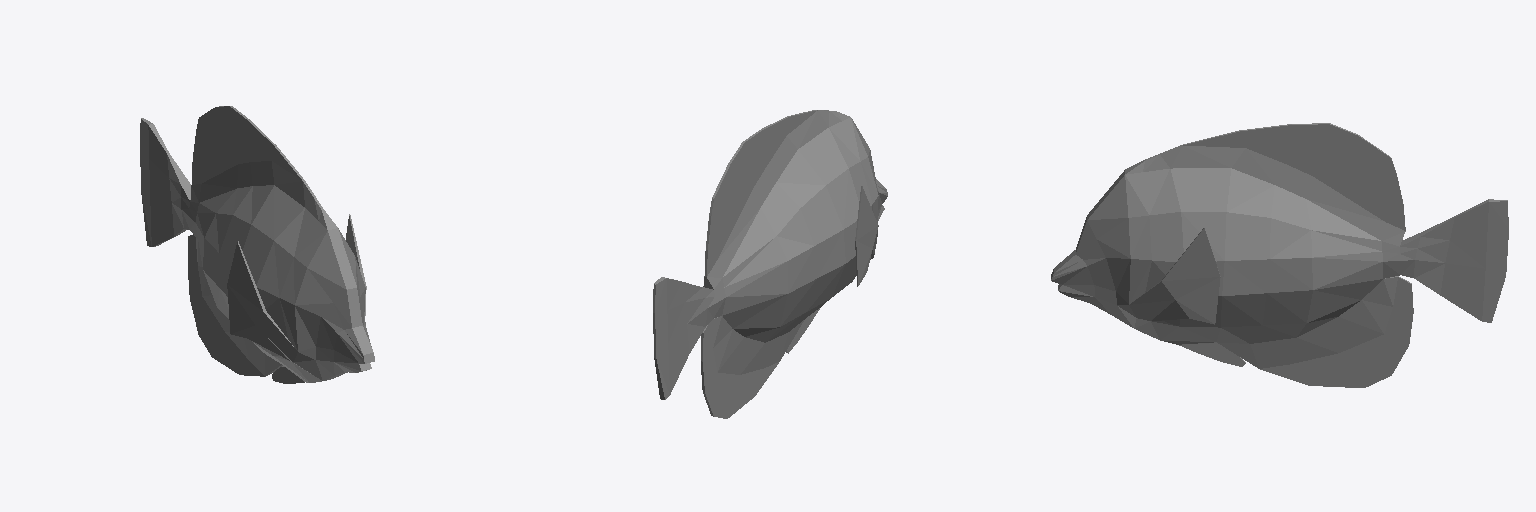
The model's file is TropicalFish01.obj.
The picture shows the model from 3 angles: view 1: azimuth 30°, elevation 25°; view 2: azimuth 150°, elevation 25°; view 3: azimuth 270°, elevation 25°; orthographic projection.
Visible parts, largest first — view 1: TropicalFish01; view 2: TropicalFish01; view 3: TropicalFish01.
Part boxes in pixels (bbox=[...]): TropicalFish01: bbox=[140, 106, 374, 383]; TropicalFish01: bbox=[653, 110, 887, 418]; TropicalFish01: bbox=[1051, 123, 1508, 387].
Bounding box in the file's own units: 83 × 179 × 281.